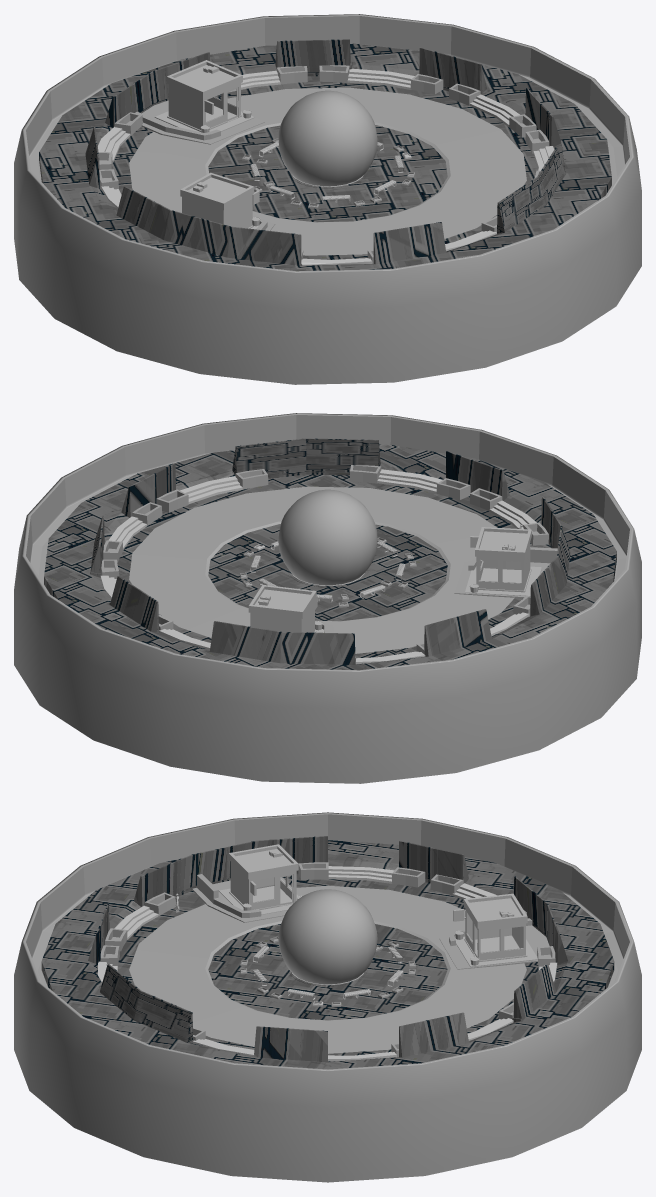
Rendered from square.fbx.
3 views of the same model, one above another, from view 1: azimuth 30°, elevation 25°; view 2: azimuth 150°, elevation 25°; view 3: azimuth 270°, elevation 25° (orthographic).
Visible parts, largest first — view 1: pCylinder1, pCylinder2, pSphere2, Cube (×2), Cube.001 (×2), pCube9, pCube8, pCube7, pCube6; view 2: pCylinder1, pCylinder2, pSphere2, Cube.001 (×2), Cube (×2), pCube7 (×2), pCube6 (×2), Plane, pCube1; view 3: pCylinder1, pCylinder2, pSphere2, Cube (×2), Cube.001 (×2), pCube9, pCube2, pCube1, Plane, pCube7, pCube6.
Boxes of the visible parts, box(x1,y1,x2,y2) form: pCylinder1: box(14, 14, 641, 384); pCylinder2: box(39, 39, 611, 271); pSphere2: box(278, 90, 377, 186); Cube (×2): box(167, 83, 253, 228); Cube.001 (×2): box(166, 60, 254, 209); pCube9: box(141, 100, 264, 144); pCube8: box(135, 111, 220, 140); pCube7: box(410, 74, 443, 94); pCube6: box(319, 65, 349, 82); pCylinder1: box(14, 413, 641, 783); pCylinder2: box(44, 438, 616, 670); pSphere2: box(278, 489, 377, 585); Cube.001 (×2): box(248, 527, 531, 618); Cube (×2): box(250, 542, 531, 632); pCube7 (×2): box(235, 469, 470, 499); pCube6 (×2): box(156, 465, 381, 512); Plane: box(465, 566, 541, 596); pCube1: box(454, 561, 550, 598); pCylinder1: box(14, 812, 641, 1182); pCylinder2: box(41, 836, 614, 1069); pSphere2: box(278, 889, 377, 984); Cube (×2): box(229, 862, 527, 962); Cube.001 (×2): box(228, 844, 527, 928); pCube9: box(439, 925, 549, 969); pCube2: box(197, 874, 261, 917); pCube1: box(192, 877, 299, 922); Plane: box(455, 936, 537, 967); pCube7: box(392, 867, 425, 887); pCube6: box(298, 862, 328, 879).
Bounding box in the file's own units: 6691 × 1834 × 6691.
